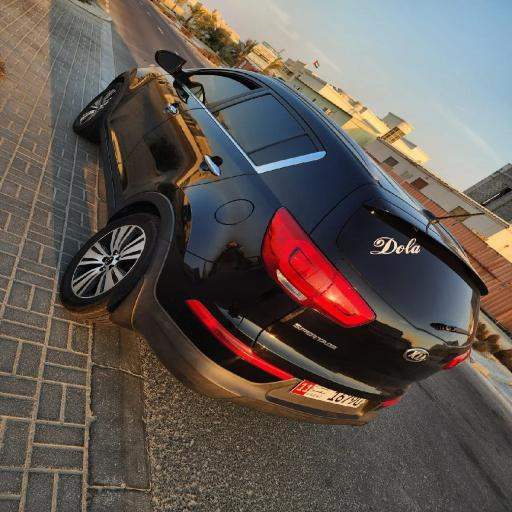license-plates: (290, 379, 368, 408)
